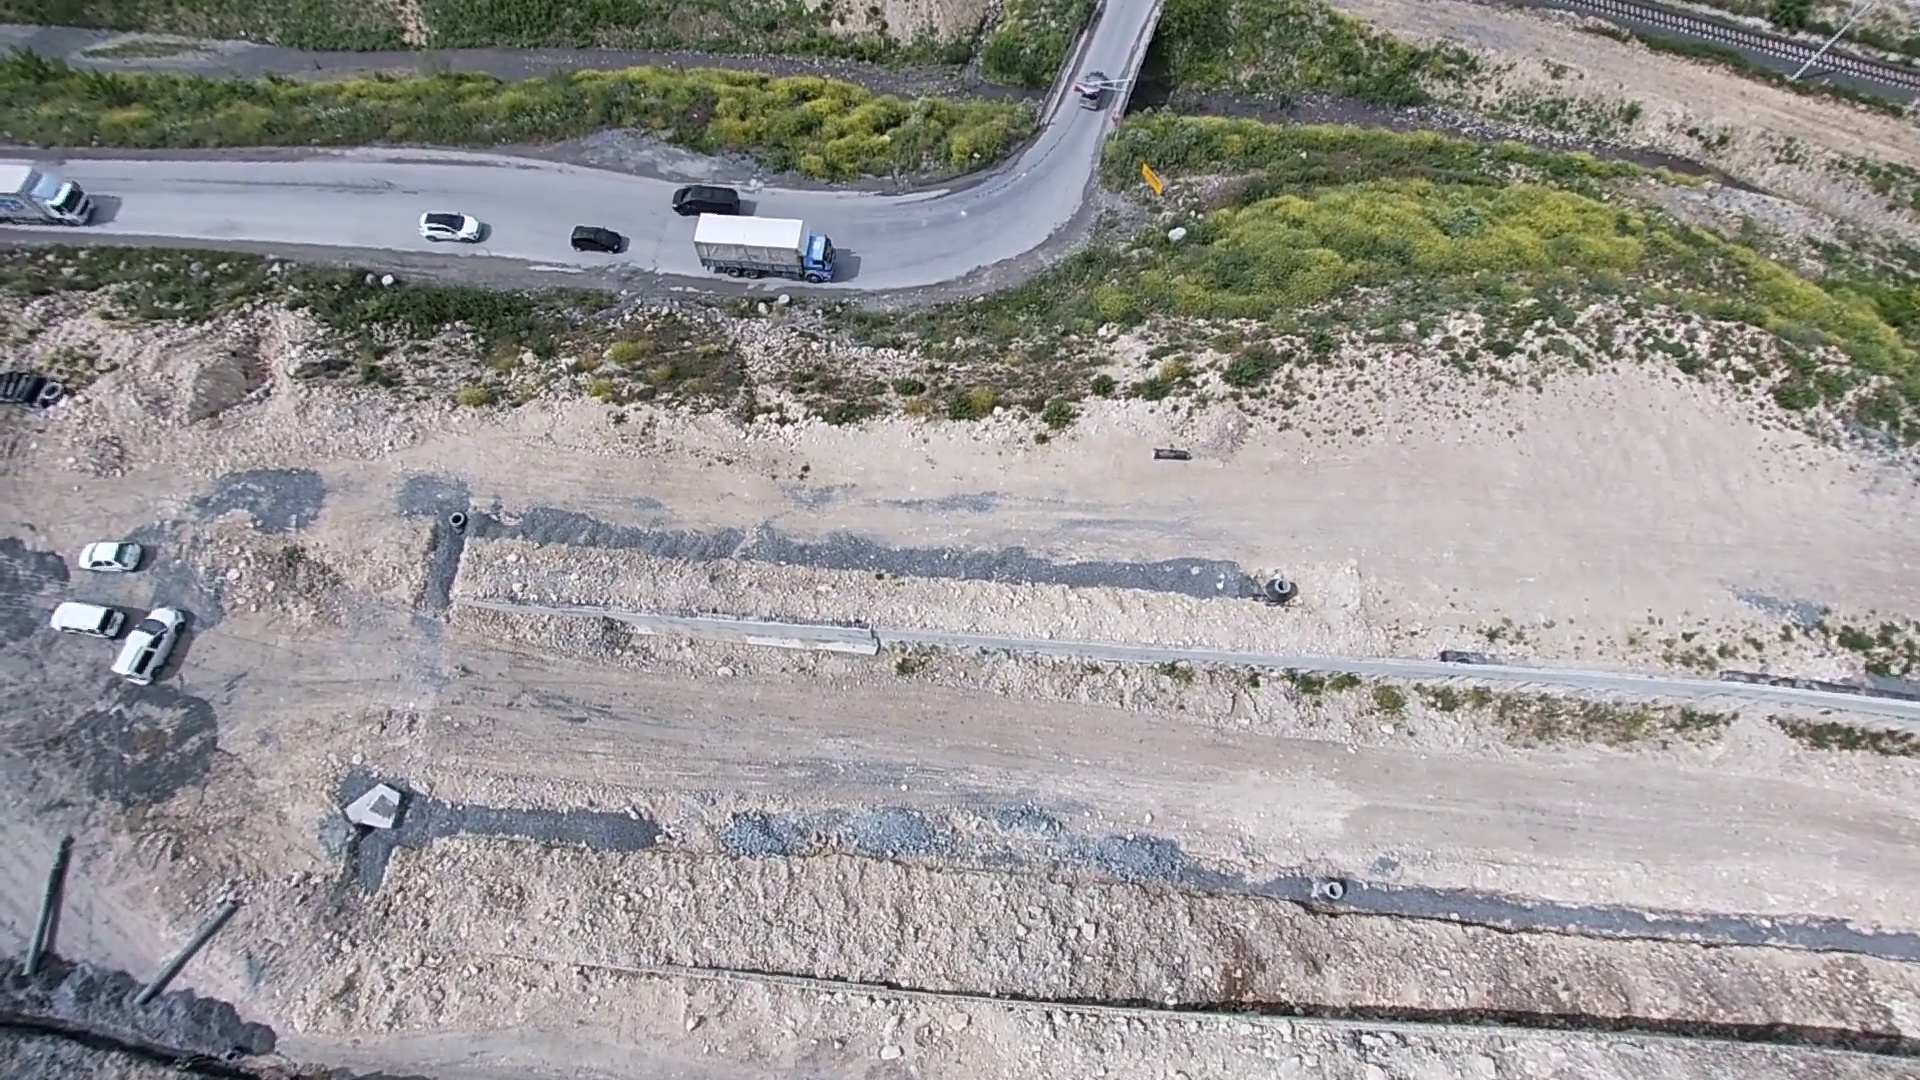arac: (692, 211, 843, 280), (1, 157, 102, 228), (107, 607, 186, 686), (669, 175, 752, 218), (49, 595, 121, 638), (76, 539, 142, 579), (421, 207, 480, 240), (571, 222, 626, 252), (1073, 69, 1108, 111)
